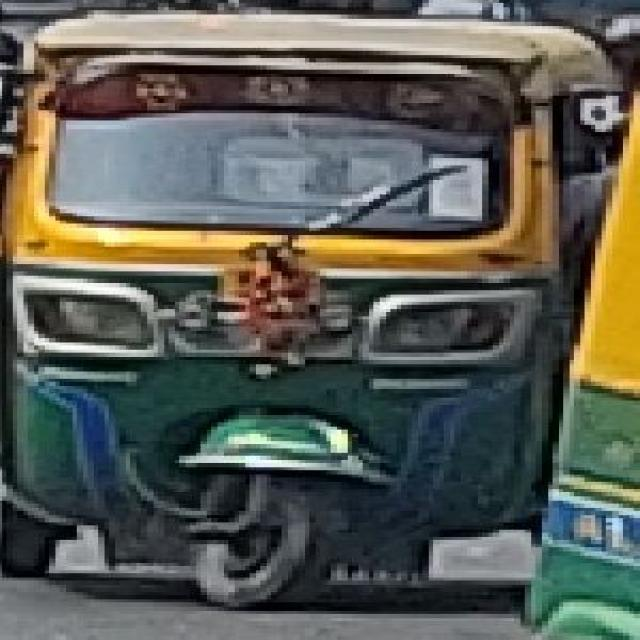autorickshaw: (15, 6, 625, 620)
